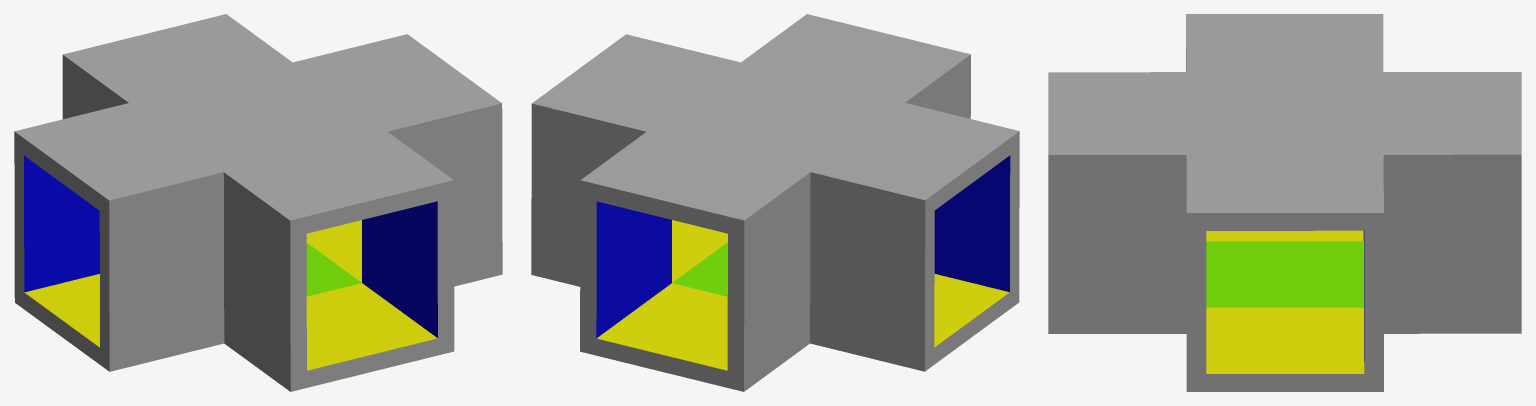
Rendered from Cross section.fbx.
3 renders of one model, left to right at view 1: azimuth 30°, elevation 25°; view 2: azimuth 150°, elevation 25°; view 3: azimuth 270°, elevation 25°, orthographic. The views are drawn at different scales.
Visible parts, largest first — view 1: Cross_hollow; view 2: Cross_hollow; view 3: Cross_hollow.
Boxes of the visible parts, x1,y1,x2,y2 form: Cross_hollow: [14, 14, 502, 391]; Cross_hollow: [531, 14, 1019, 391]; Cross_hollow: [1048, 14, 1521, 391].
Size of the model in its own units: 0.1202 by 0.0503 by 0.1201.
